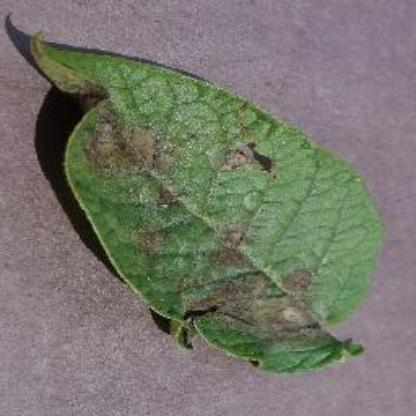Late-Blight: (16, 19, 394, 384)
